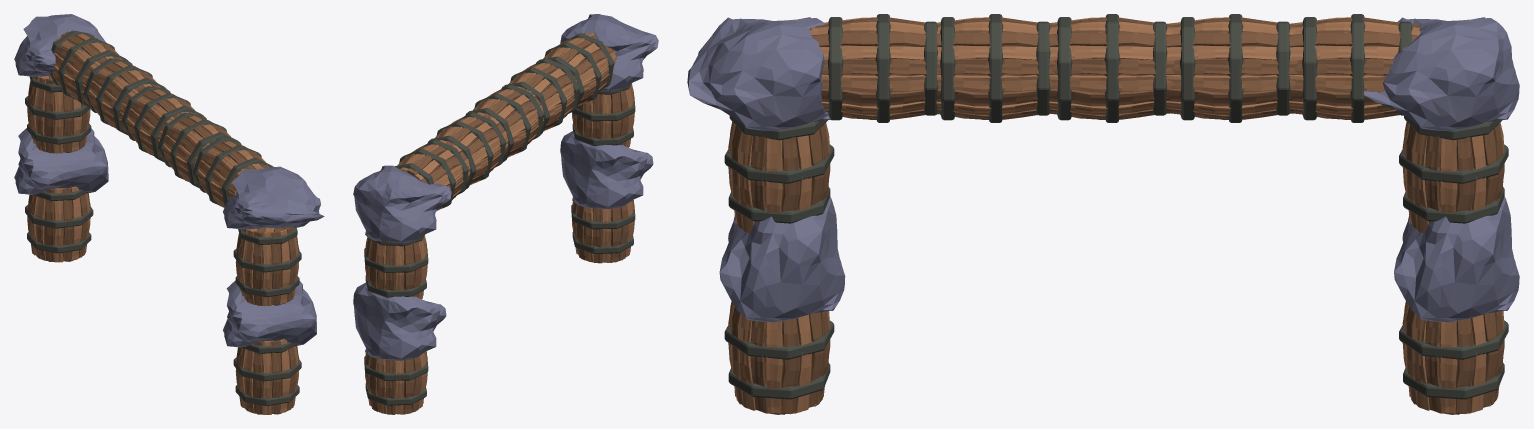
The model's file is altengel3.fbx.
3 views of the same model, side by side, from view 1: azimuth 30°, elevation 25°; view 2: azimuth 150°, elevation 25°; view 3: azimuth 270°, elevation 25° (orthographic). The views are drawn at different scales.
Visible parts, largest first — view 1: LP Barrel.004; view 2: LP Barrel.004; view 3: LP Barrel.004.
Part boxes in pixels (x1,y1,x2,y2): LP Barrel.004: (14,14,324,414); LP Barrel.004: (353,14,658,414); LP Barrel.004: (687,14,1519,414).
Bounding box in the file's own units: 0.7114 × 1.96 × 3.91.
